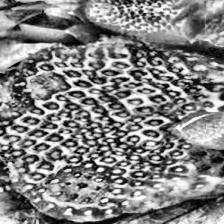Anthracnose Fruit Rot: (42, 165, 115, 207), (0, 72, 64, 115), (176, 141, 224, 183)
